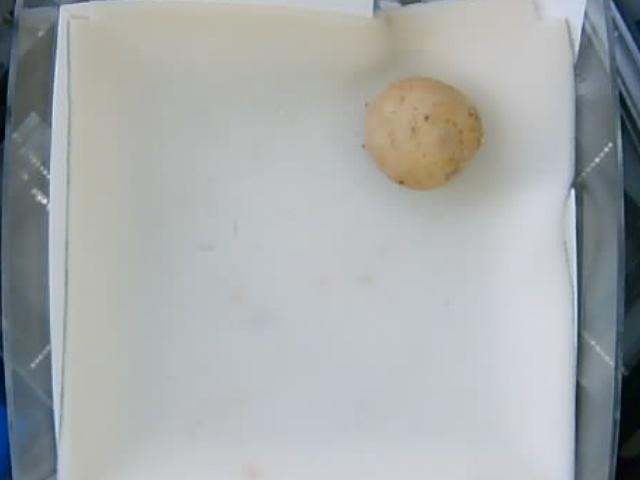Potato: (359, 79, 483, 187)
